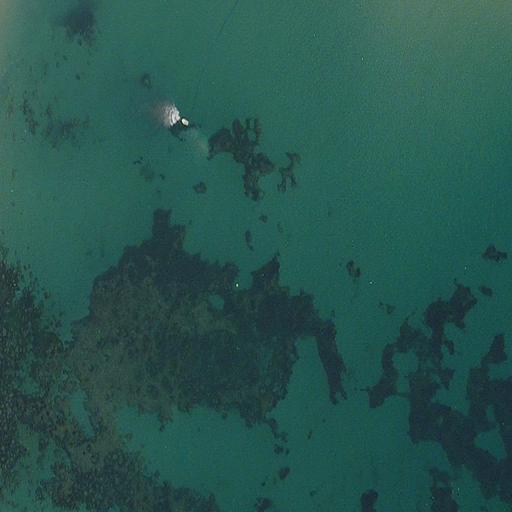ship: (176, 114, 192, 128)
